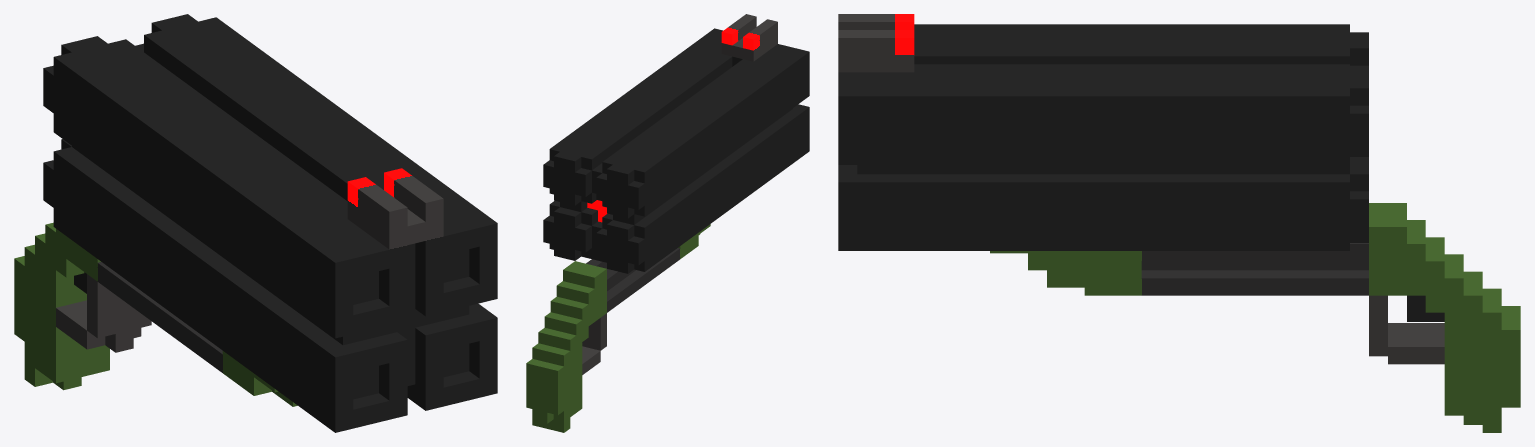
The model's file is BarrelShotGunx2.dae.
3 renders of one model, left to right at view 1: azimuth 30°, elevation 25°; view 2: azimuth 150°, elevation 25°; view 3: azimuth 270°, elevation 25°, orthographic. The views are drawn at different scales.
Parts seen in each view (by area): view 1: BarrelShotGunx2; view 2: BarrelShotGunx2; view 3: BarrelShotGunx2.
Boxes of the visible parts, box(x1,y1,x2,y2) form: BarrelShotGunx2: box(14, 14, 497, 432); BarrelShotGunx2: box(526, 14, 809, 432); BarrelShotGunx2: box(838, 14, 1520, 432).
Size of the model in its own units: 9 by 23 by 36.
1 material, 1 textured.
